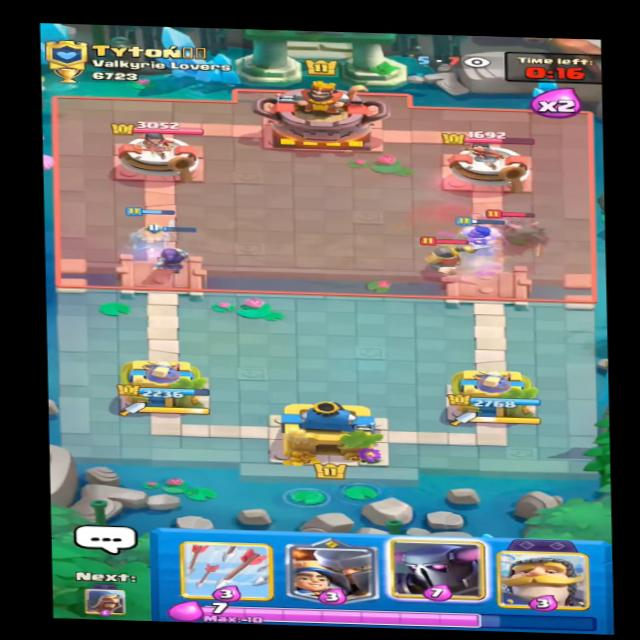knight: (413, 230, 477, 277)
pekka: (471, 206, 557, 252)
